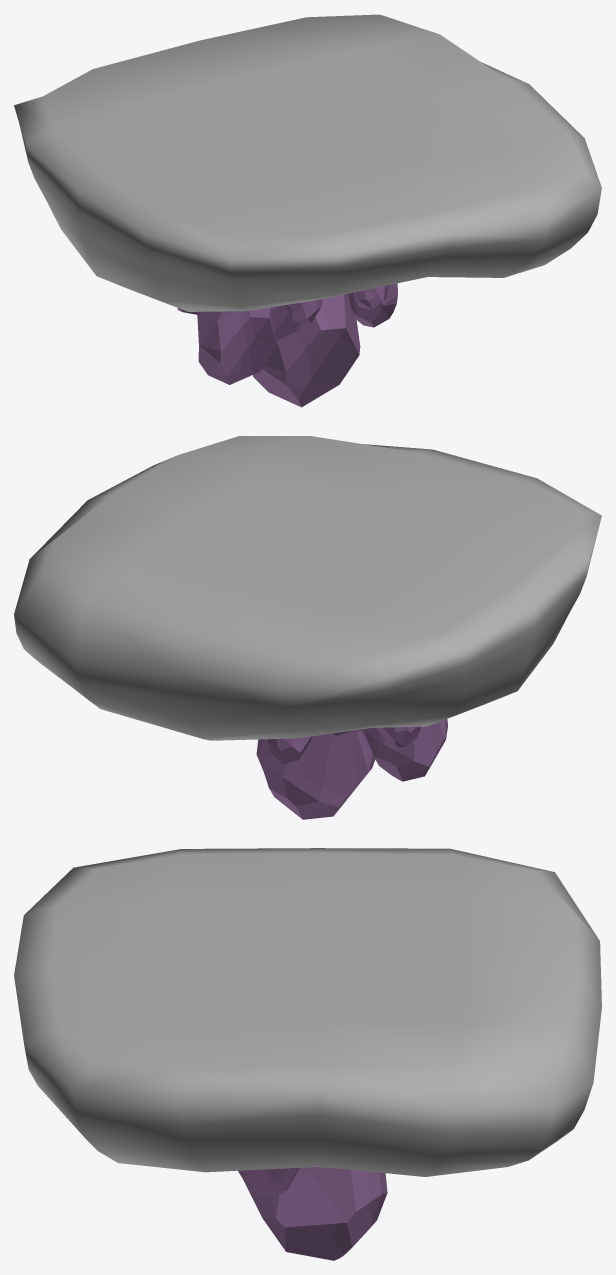
Rendered from Platform_Runestone.fbx.
3 renders of one model, top to bottom at view 1: azimuth 30°, elevation 25°; view 2: azimuth 150°, elevation 25°; view 3: azimuth 270°, elevation 25°, orthographic. The views are drawn at different scales.
Parts seen in each view (by area): view 1: Rock, Crystals1; view 2: Rock, Crystals1; view 3: Rock, Crystals1.
Part boxes in pixels (left/top/right/bottom): Rock: left=14, top=14, right=601, bottom=311; Crystals1: left=177, top=283, right=397, bottom=407; Rock: left=14, top=436, right=601, bottom=740; Crystals1: left=256, top=719, right=447, bottom=819; Rock: left=14, top=848, right=601, bottom=1176; Crystals1: left=238, top=1167, right=387, bottom=1260.
Bounding box in the file's own units: 3.28 × 3.34 × 1.88.
